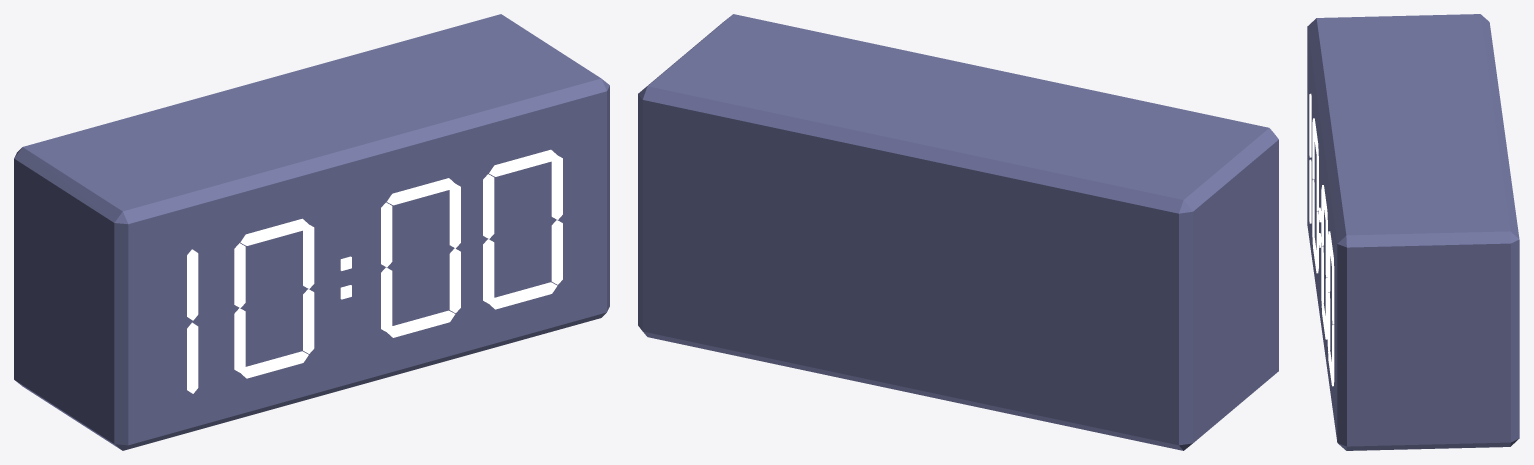
The model's file is Clock_4.glb.
3 renders of one model, left to right at view 1: azimuth 30°, elevation 25°; view 2: azimuth 150°, elevation 25°; view 3: azimuth 270°, elevation 25°, orthographic. The views are drawn at different scales.
Visible parts, largest first — view 1: Clock_4; view 2: Clock_4; view 3: Clock_4.
Part boxes in pixels (bbox=[...]): Clock_4: bbox=[14, 14, 609, 450]; Clock_4: bbox=[638, 14, 1278, 450]; Clock_4: bbox=[1307, 14, 1519, 450].
Bounding box in the file's own units: 0.292 × 0.1281 × 0.1142.
2 materials, 1 textured.
